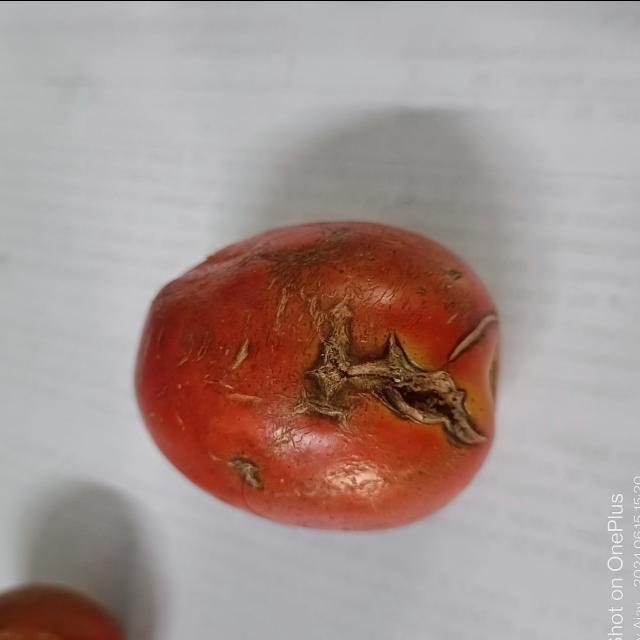tomato_cracking: (282, 268, 495, 471)
